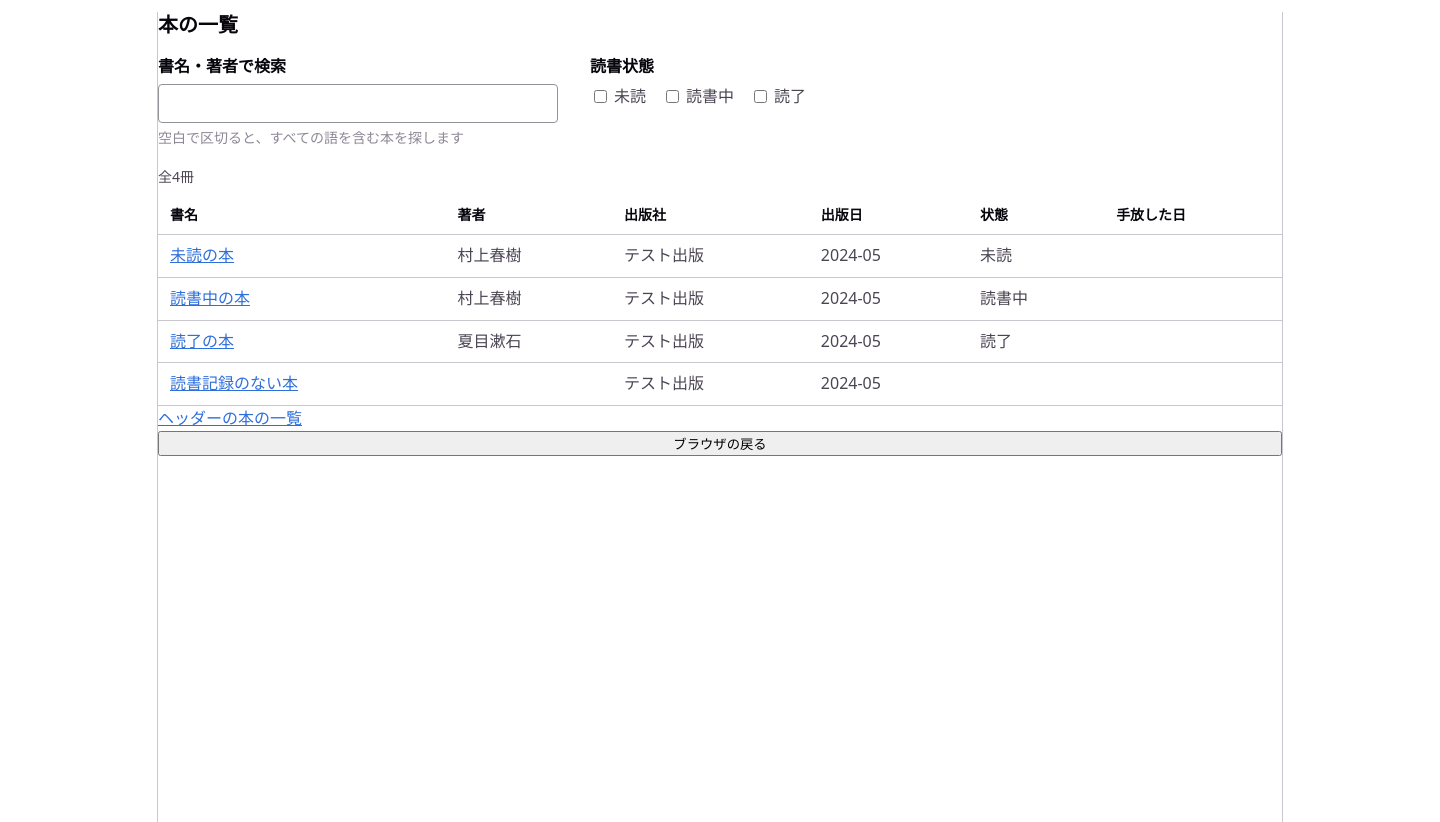
Test case: BookListPage › 読書状態の絞り込み › 選んだ読書状態の本だけを表示し、件数を示す
Click the checkbox labelled "読了": (760, 96) [754,90,767,103]
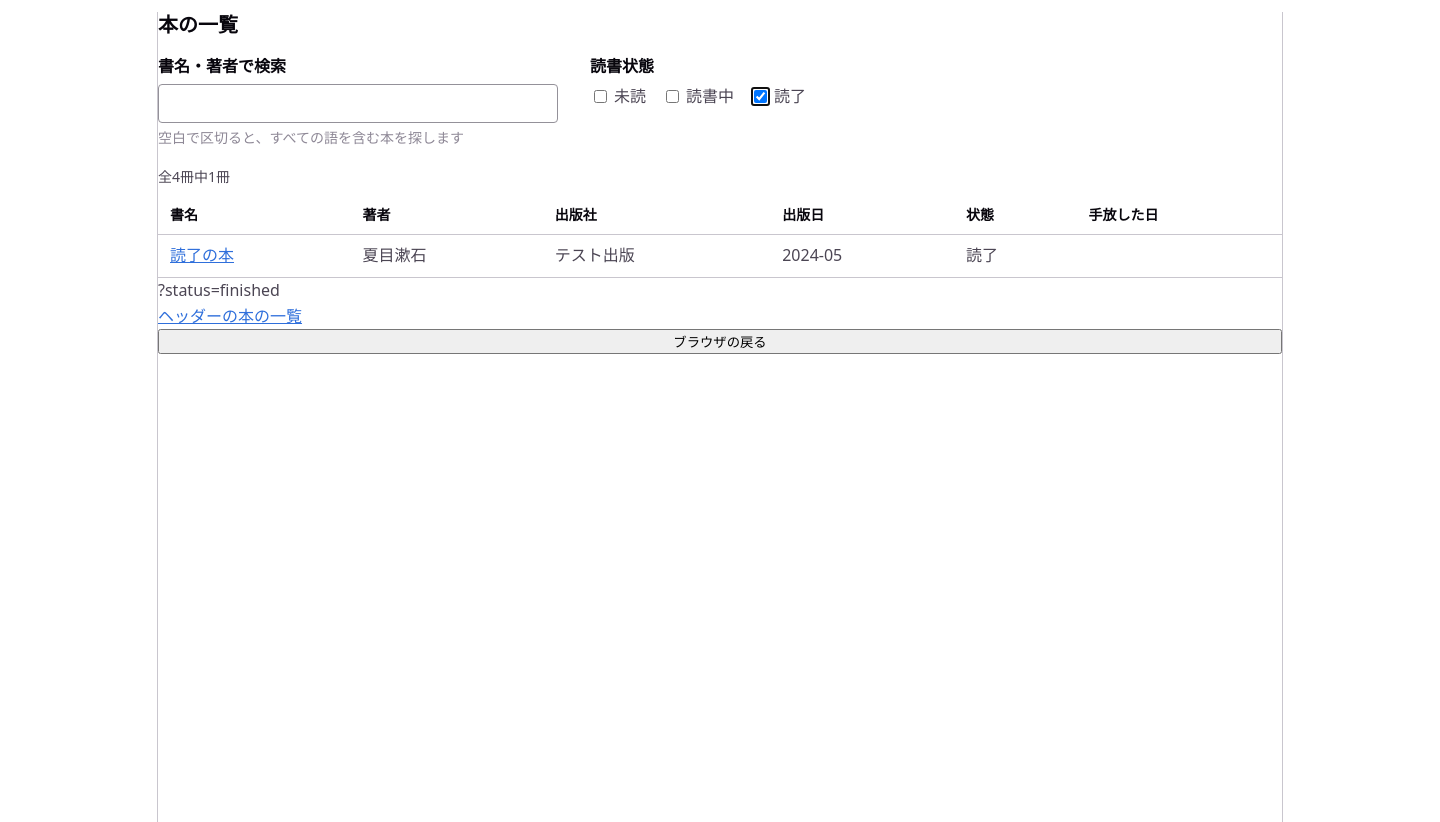
Check: the text "全4冊中1冊" is shown, box [158,167,230,186]
